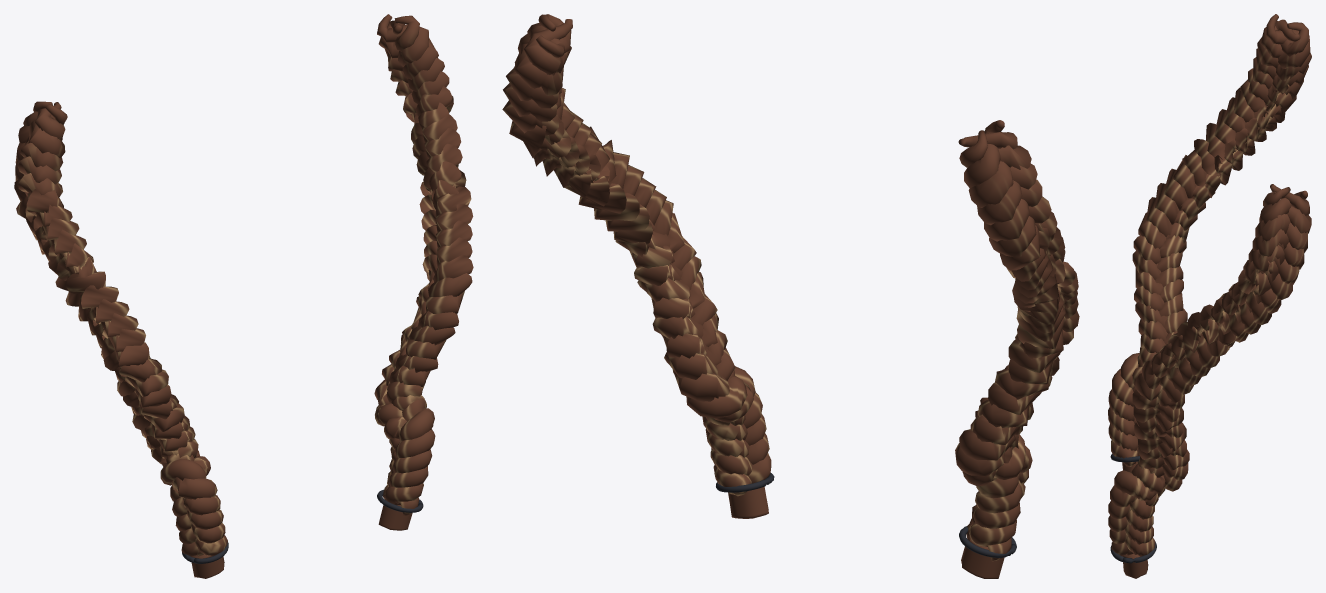
Rendered from Highlights-6e4438610747252-hair.glb.
3 renders of one model, left to right at view 1: azimuth 30°, elevation 25°; view 2: azimuth 150°, elevation 25°; view 3: azimuth 270°, elevation 25°, orthographic. The views are drawn at different scales.
Visible parts, largest first — view 1: 226 hairLengths / Hair / chestnut226, 226 hairLengths / Hair / ties226; view 2: 226 hairLengths / Hair / chestnut226, 226 hairLengths / Hair / ties226; view 3: 226 hairLengths / Hair / chestnut226, 226 hairLengths / Hair / ties226.
Part boxes in pixels (bbox=[...]): 226 hairLengths / Hair / chestnut226: bbox=[14, 14, 473, 578]; 226 hairLengths / Hair / ties226: bbox=[182, 489, 423, 563]; 226 hairLengths / Hair / chestnut226: bbox=[502, 14, 1079, 578]; 226 hairLengths / Hair / ties226: bbox=[716, 473, 1016, 557]; 226 hairLengths / Hair / chestnut226: bbox=[1108, 14, 1311, 578]; 226 hairLengths / Hair / ties226: bbox=[1110, 453, 1156, 563].
Size of the model in its own units: 1.09 by 1.06 by 0.4549.
2 materials, 1 textured.
